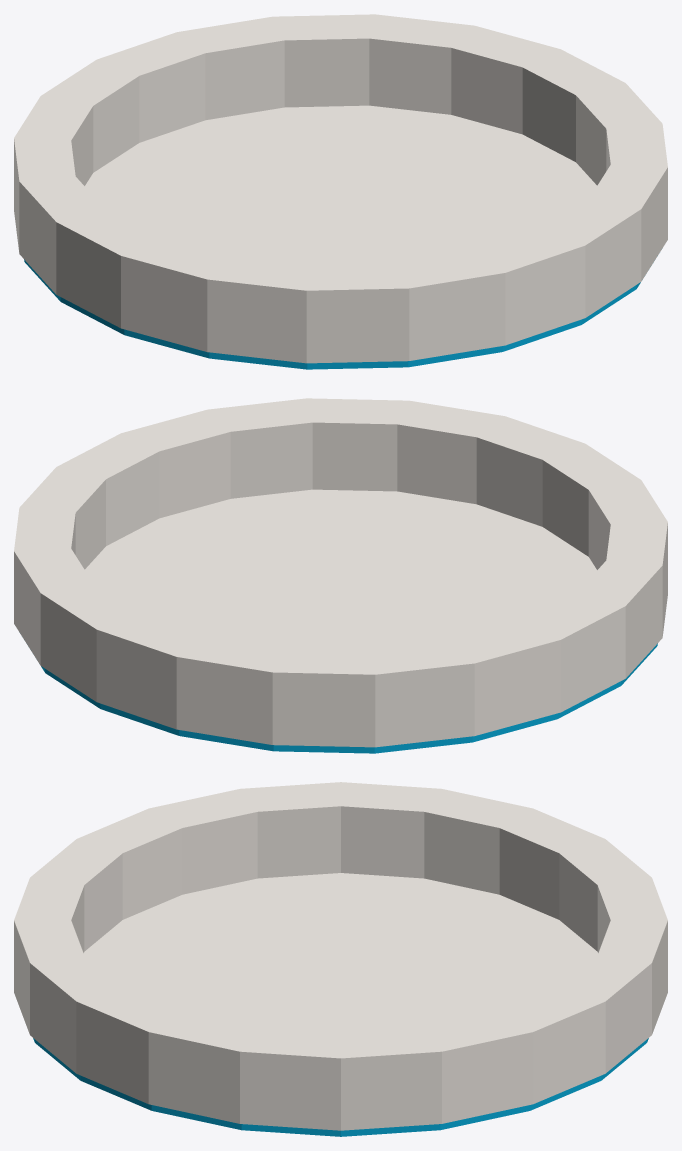
Rendered from fountain_basin.glb.
3 renders of one model, top to bottom at view 1: azimuth 30°, elevation 25°; view 2: azimuth 150°, elevation 25°; view 3: azimuth 270°, elevation 25°, orthographic.
Visible parts, largest first — view 1: frutiger_aero_fountain_basin; view 2: frutiger_aero_fountain_basin; view 3: frutiger_aero_fountain_basin.
Part boxes in pixels (x1=…): frutiger_aero_fountain_basin: x1=14, y1=14, x2=667, y2=369; frutiger_aero_fountain_basin: x1=14, y1=398, x2=667, y2=753; frutiger_aero_fountain_basin: x1=14, y1=782, x2=667, y2=1136.
Size of the model in its own units: 3.2 by 0.46 by 3.2.
Materials: 2 (2 with a texture image).
